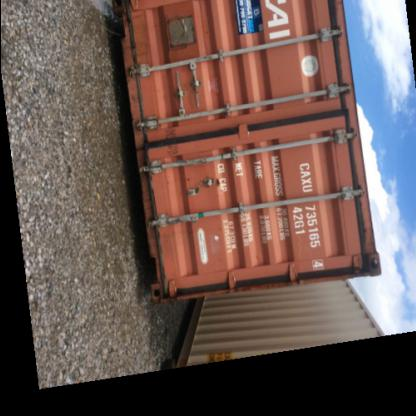Damage: (119, 6, 155, 138), (142, 150, 172, 296), (162, 125, 182, 159)
